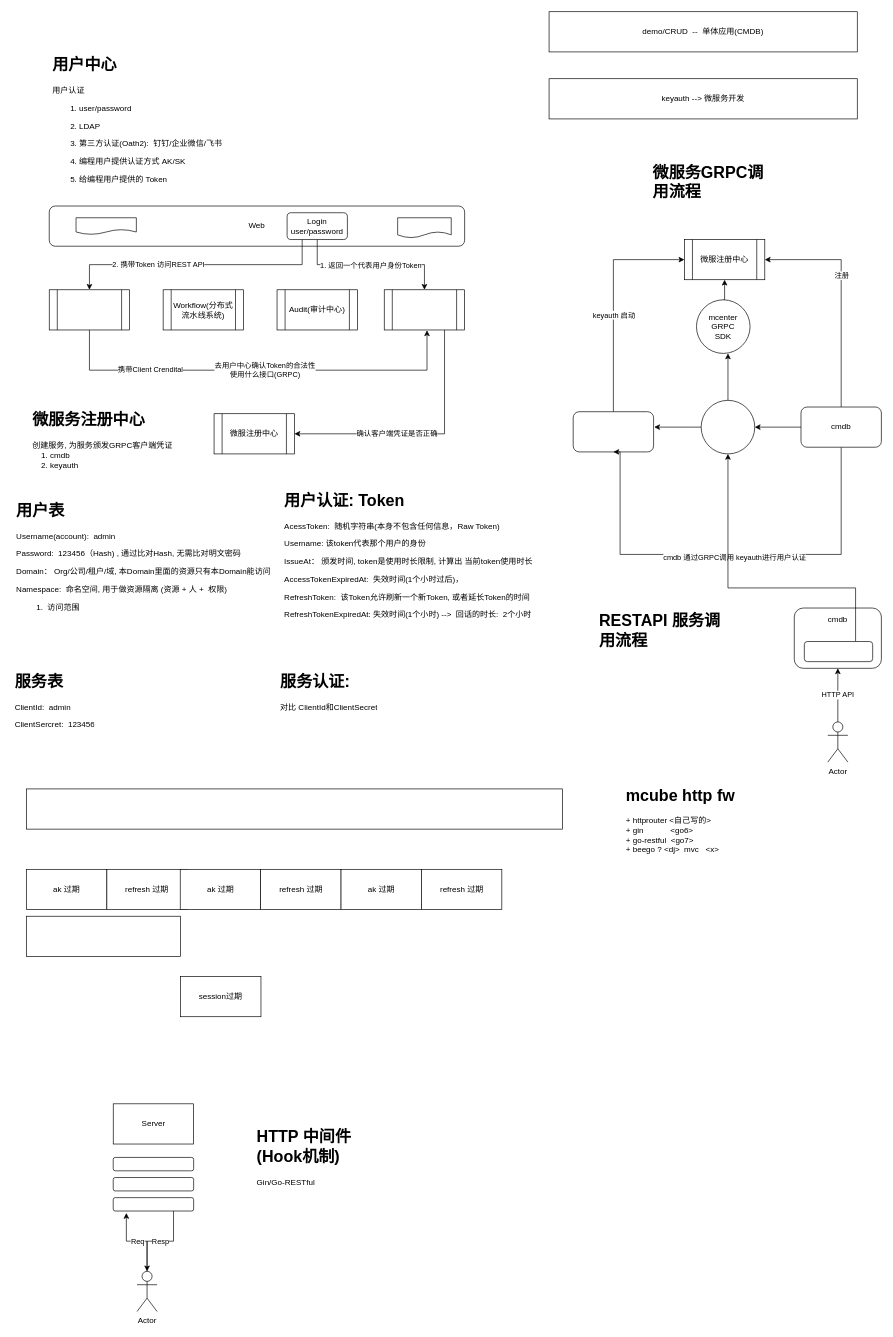
Some shapes in this 893 by 1337 pixel diagram are drawn without their labels. Here are the shapes that lost their labels. From the top down, the box of each, then its label:
(75, 217, 136, 234): cdmb相关页面
(397, 217, 451, 238): Audit相关页面
(49, 289, 130, 330): CMDB(资源中心)
(384, 289, 465, 330): 用户中心
(573, 411, 654, 452): keyauth
(700, 400, 755, 454): keyauth GRPC SDK
(804, 641, 873, 662): HTTP 中间件
(26, 788, 562, 829): session: 通过token过期时间管理session
(26, 916, 181, 956): session时长
(113, 1197, 194, 1211): Req Resp
